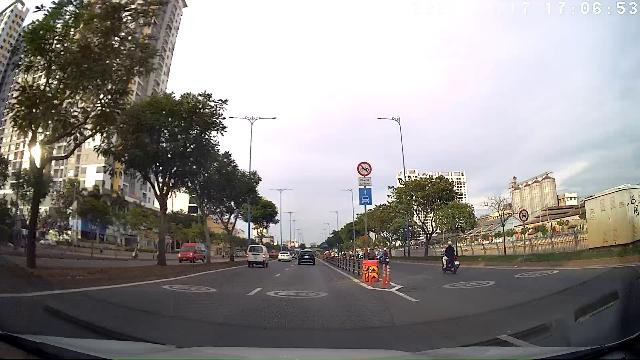103a-cam-oto: (519, 209, 529, 221)
